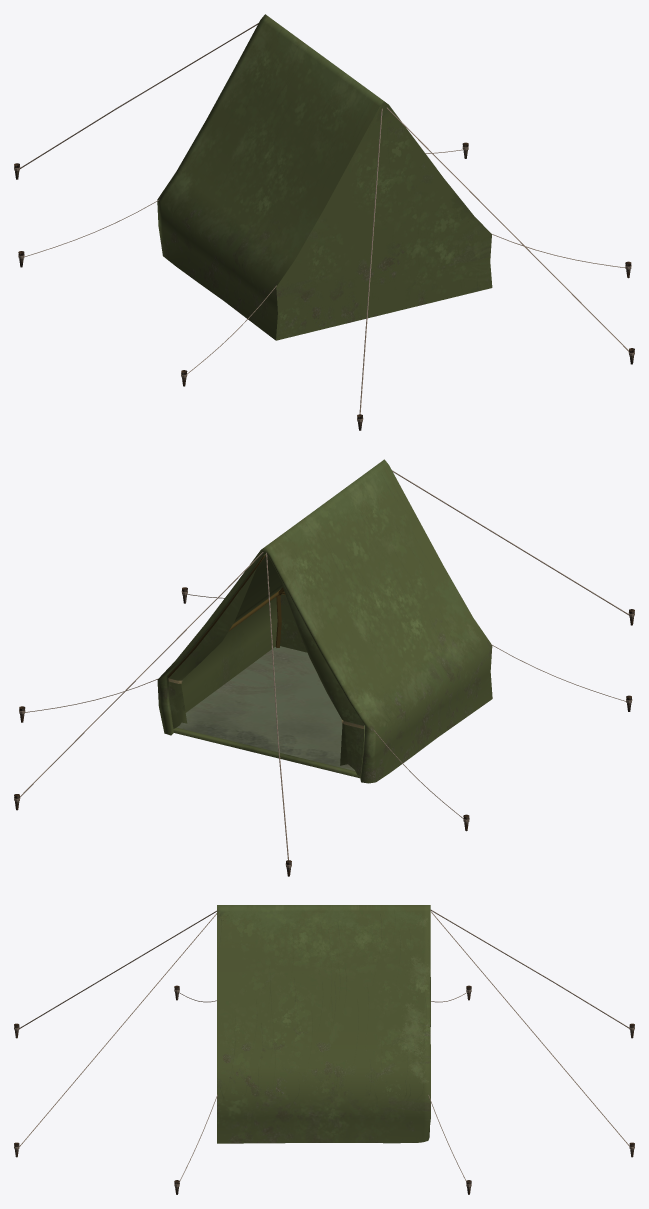
The model's file is tent(1).glb.
3 views of the same model, one above another, from view 1: azimuth 30°, elevation 25°; view 2: azimuth 150°, elevation 25°; view 3: azimuth 270°, elevation 25° (orthographic). The views are drawn at different scales.
Parts seen in each view (by area): view 1: Tent_low, Line003, Pick_low; view 2: Tent_low, Floor_low, Curtains, Line003, Pick_low; view 3: Tent_low, Line003, Pick_low.
Part boxes in pixels (left/top/right/bottom): Tent_low: left=157, top=14, right=492, bottom=340; Line003: left=20, top=23, right=628, bottom=414; Pick_low: left=14, top=142, right=634, bottom=430; Tent_low: left=157, top=459, right=492, bottom=783; Floor_low: left=173, top=646, right=360, bottom=778; Curtains: left=168, top=568, right=364, bottom=776; Line003: left=20, top=470, right=629, bottom=860; Pick_low: left=14, top=587, right=634, bottom=876; Tent_low: left=217, top=905, right=430, bottom=1143; Line003: left=19, top=909, right=629, bottom=1146; Pick_low: left=14, top=985, right=634, bottom=1194.
Size of the model in its own units: 1.5 by 0.6833 by 2.
1 material, 1 textured.
